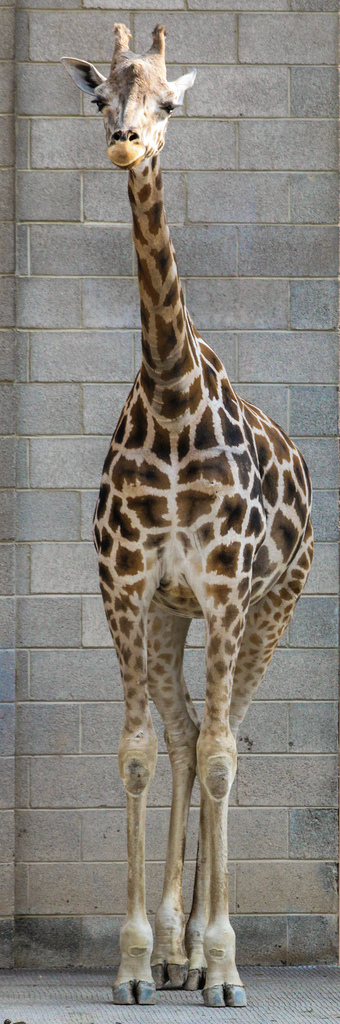giraffe: (56, 16, 332, 1002)
